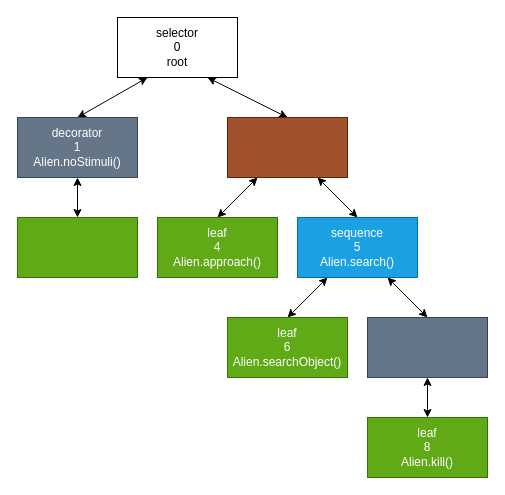
Some shapes in this 505 by 495 pixel diagram are drawn without their labels. The centre of each missing label's shape, as x and y in pixels:
"decorator 7 Alien.sawSomething()" goes at (x=427, y=347).
"leaf 2 Alien.doNotBother()" goes at (x=77, y=247).
"selector 3 Alien.heardSound()" goes at (x=287, y=147).
